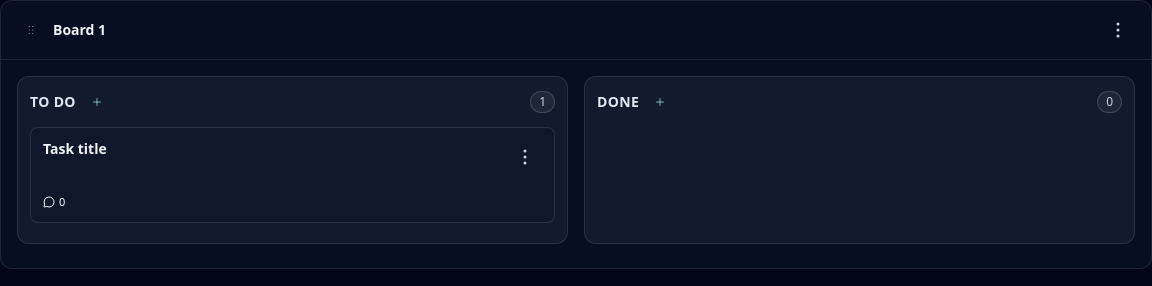
Scenario: DashboardSection › disables archive-all-completed action when last status has no cards
This screenshot has width=1152, height=286.
Click the button with test id "dashboard-actions-trigger-board-1".
click(1118, 30)  # box x1=1101 y1=13 x2=1135 y2=47
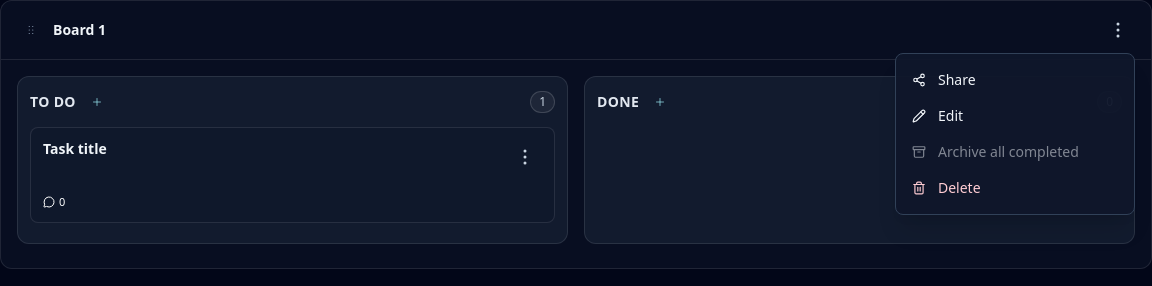
expect the menu item with test id "archive-completed-dashboard-button-board-1" is disabled: met, box x1=896 y1=134 x2=1134 y2=170
